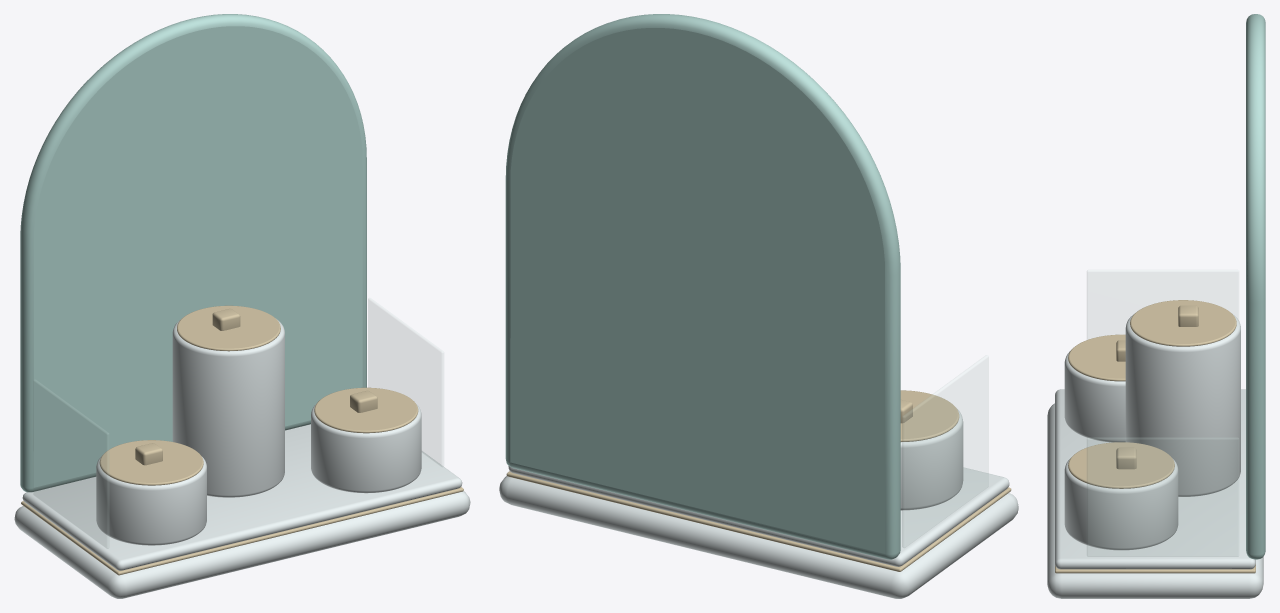
File: cabinet.glb
The picture shows the model from 3 angles, left to right: view 1: azimuth 30°, elevation 25°; view 2: azimuth 150°, elevation 25°; view 3: azimuth 270°, elevation 25°; orthographic projection. The views are drawn at different scales.
Parts seen in each view (by area): view 1: CabinetOpaqueAtlas, Side glass fin, Side glass fin.001; view 2: CabinetOpaqueAtlas, Side glass fin; view 3: CabinetOpaqueAtlas, Side glass fin.001, Side glass fin.
Boxes of the visible parts, <box> form: CabinetOpaqueAtlas: <box>14,14,470,598</box>; Side glass fin: <box>34,380,108,548</box>; Side glass fin.001: <box>368,298,443,466</box>; CabinetOpaqueAtlas: <box>499,14,1018,598</box>; Side glass fin: <box>902,355,988,547</box>; CabinetOpaqueAtlas: <box>1047,14,1265,598</box>; Side glass fin.001: <box>1087,438,1238,556</box>; Side glass fin: <box>1087,270,1238,339</box>.
Size of the model in its own units: 5.05 by 6.25 by 2.58.
